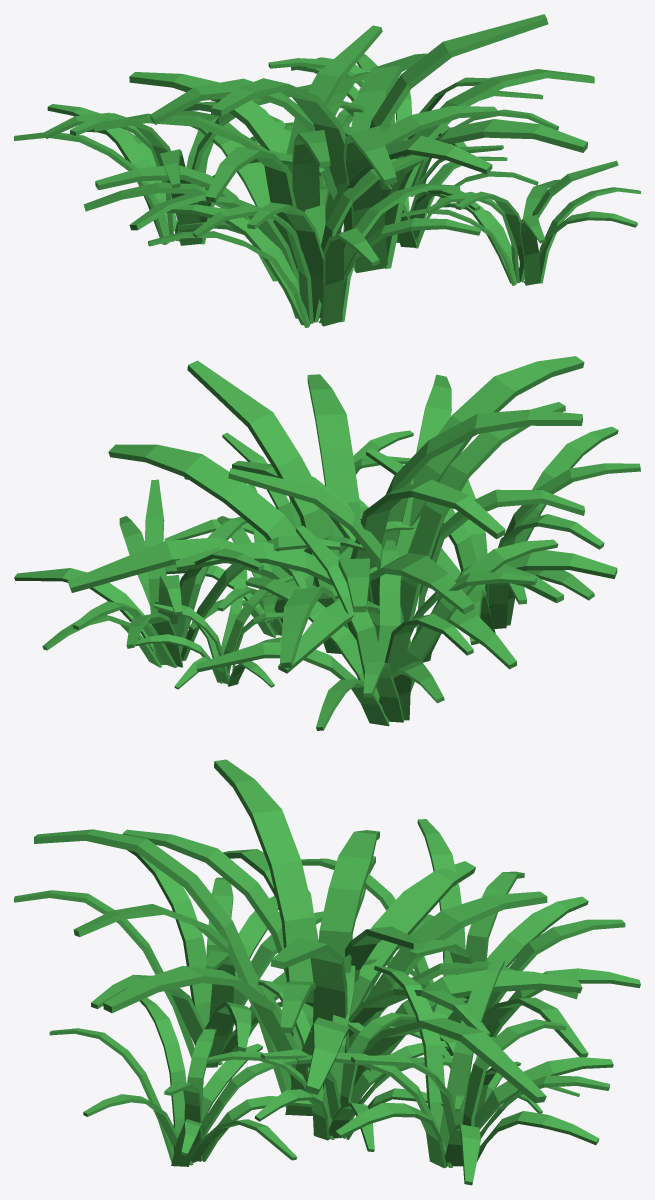
File: shrub_grass_02_fbx.fbx
3 renders of one model, top to bottom at view 1: azimuth 30°, elevation 25°; view 2: azimuth 150°, elevation 25°; view 3: azimuth 270°, elevation 25°, orthographic. The views are drawn at different scales.
Parts seen in each view (by area): view 1: grass_01_Plane.008; view 2: grass_01_Plane.008; view 3: grass_01_Plane.008.
Boxes of the visible parts, x1,y1,x2,y2 form: grass_01_Plane.008: [14, 14, 640, 327]; grass_01_Plane.008: [14, 356, 640, 730]; grass_01_Plane.008: [14, 759, 640, 1185].
Bounding box in the file's own units: 228 × 101 × 232.
